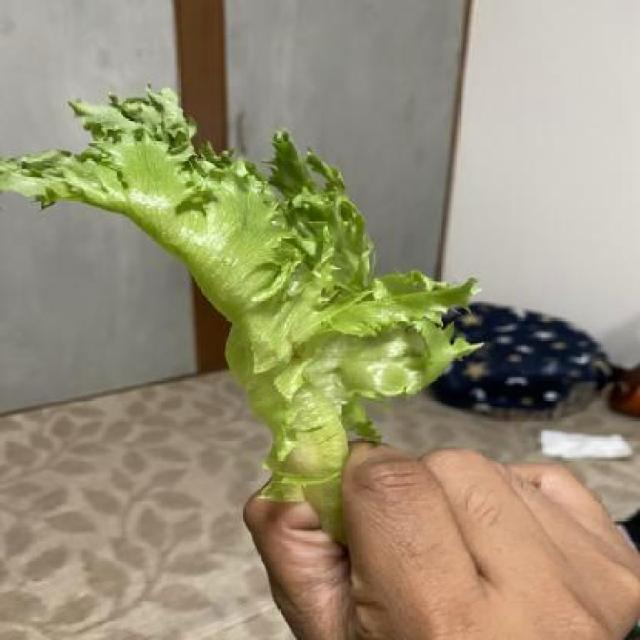Lettuce: (7, 82, 485, 503)
